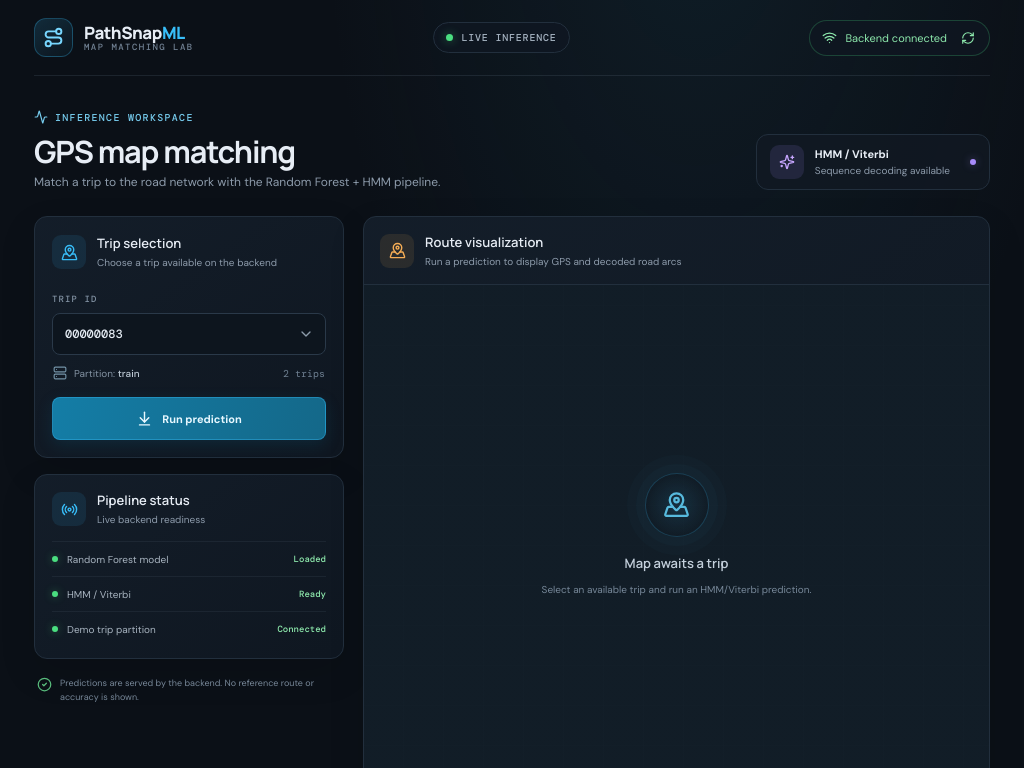
Test case: PathSnap dashboard › shows backend prediction errors and allows retry
The image size is (1024, 768).
Click the button "Run prediction" at [189, 419], box top-left (52, 397), bottom-right (326, 440)
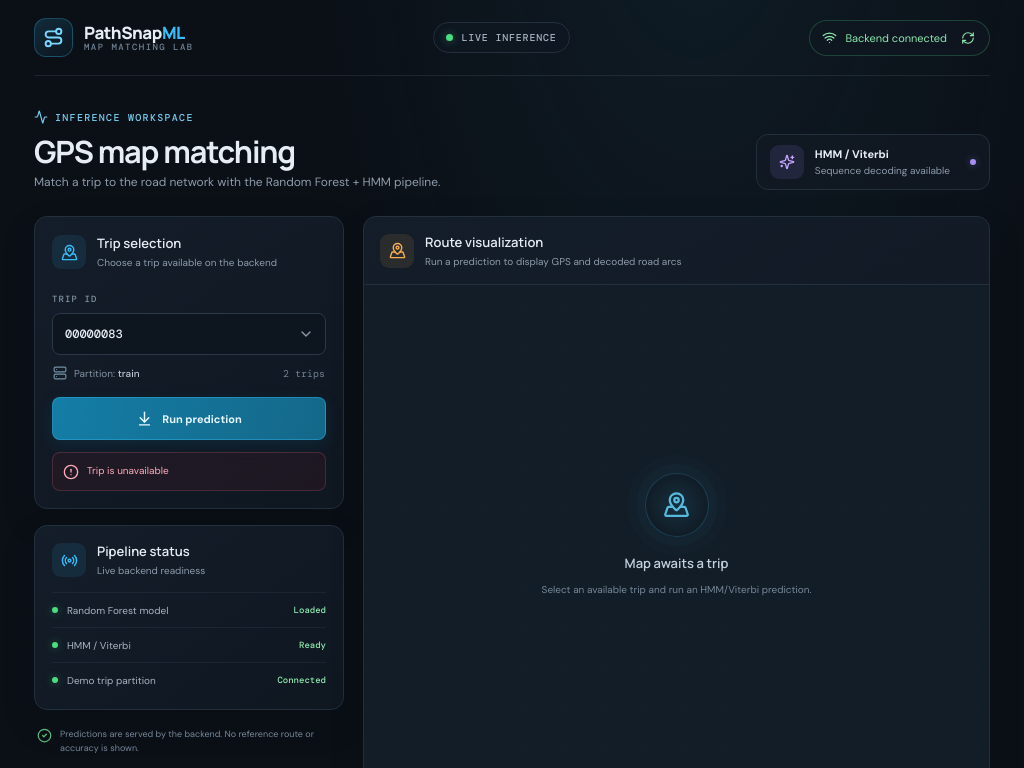
Expected: the message reads "Trip is unavailable", top-left (87, 464), bottom-right (169, 477)
